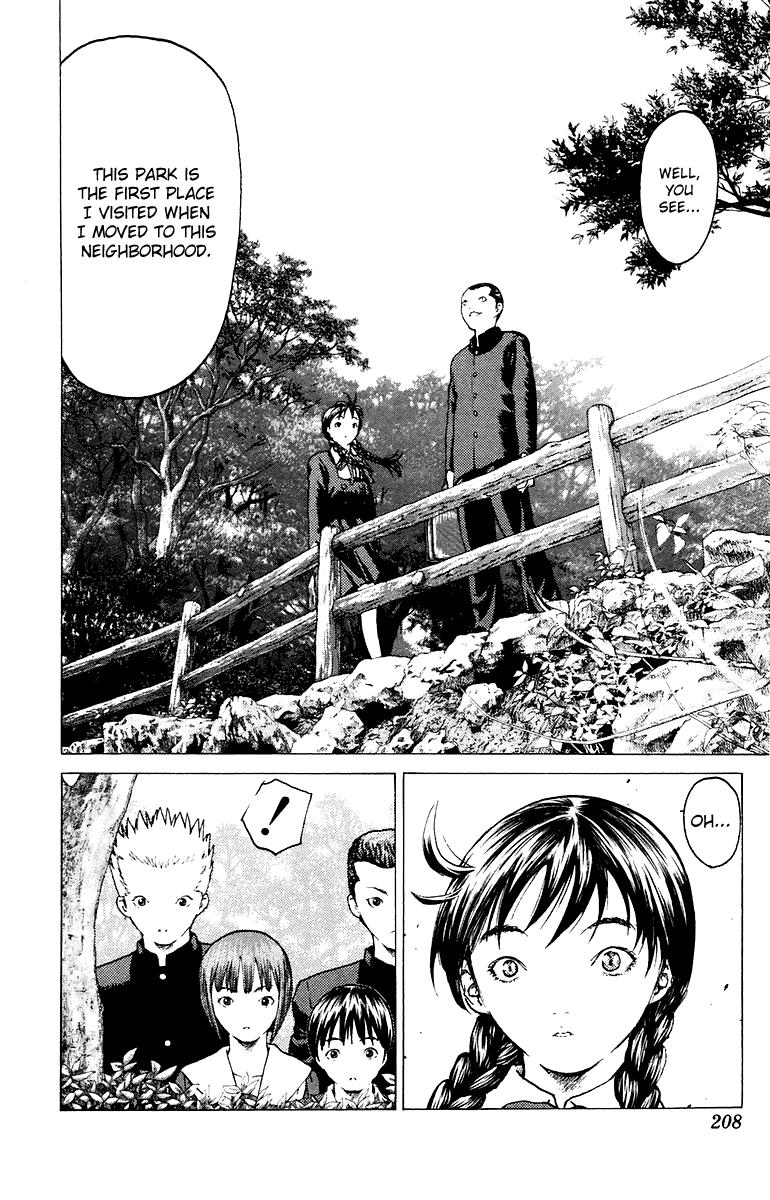Bubble: (58, 34, 244, 400), (639, 110, 720, 265), (238, 777, 314, 860), (681, 775, 745, 870)
